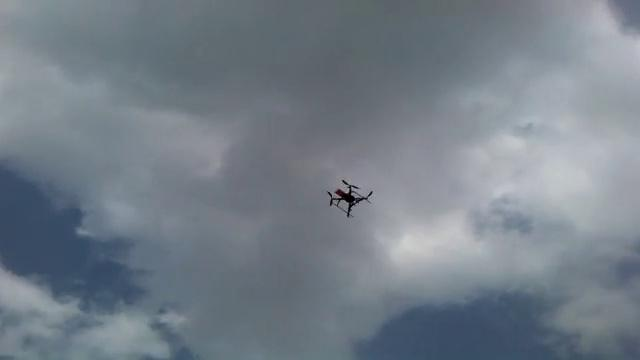drone: (324, 176, 374, 218)
